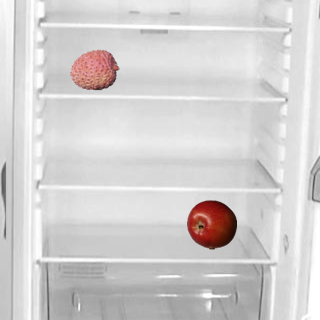Apple Braeburn: (186, 199, 236, 249)
Lychee: (69, 44, 119, 94)
